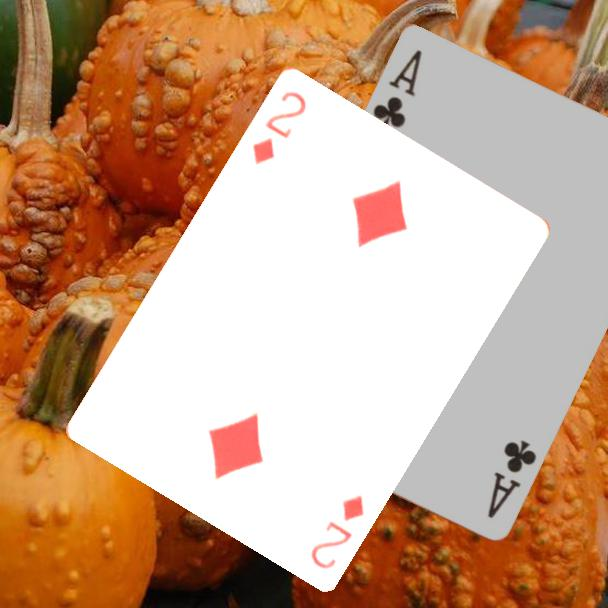c01: (483, 435, 540, 521), (369, 45, 425, 131)
d02: (248, 86, 310, 167), (307, 490, 367, 572)
